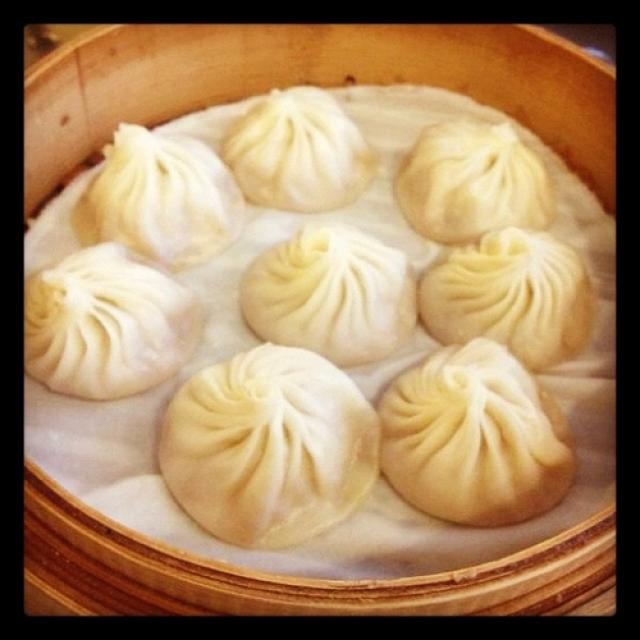带馅早点: (32, 26, 605, 602)
